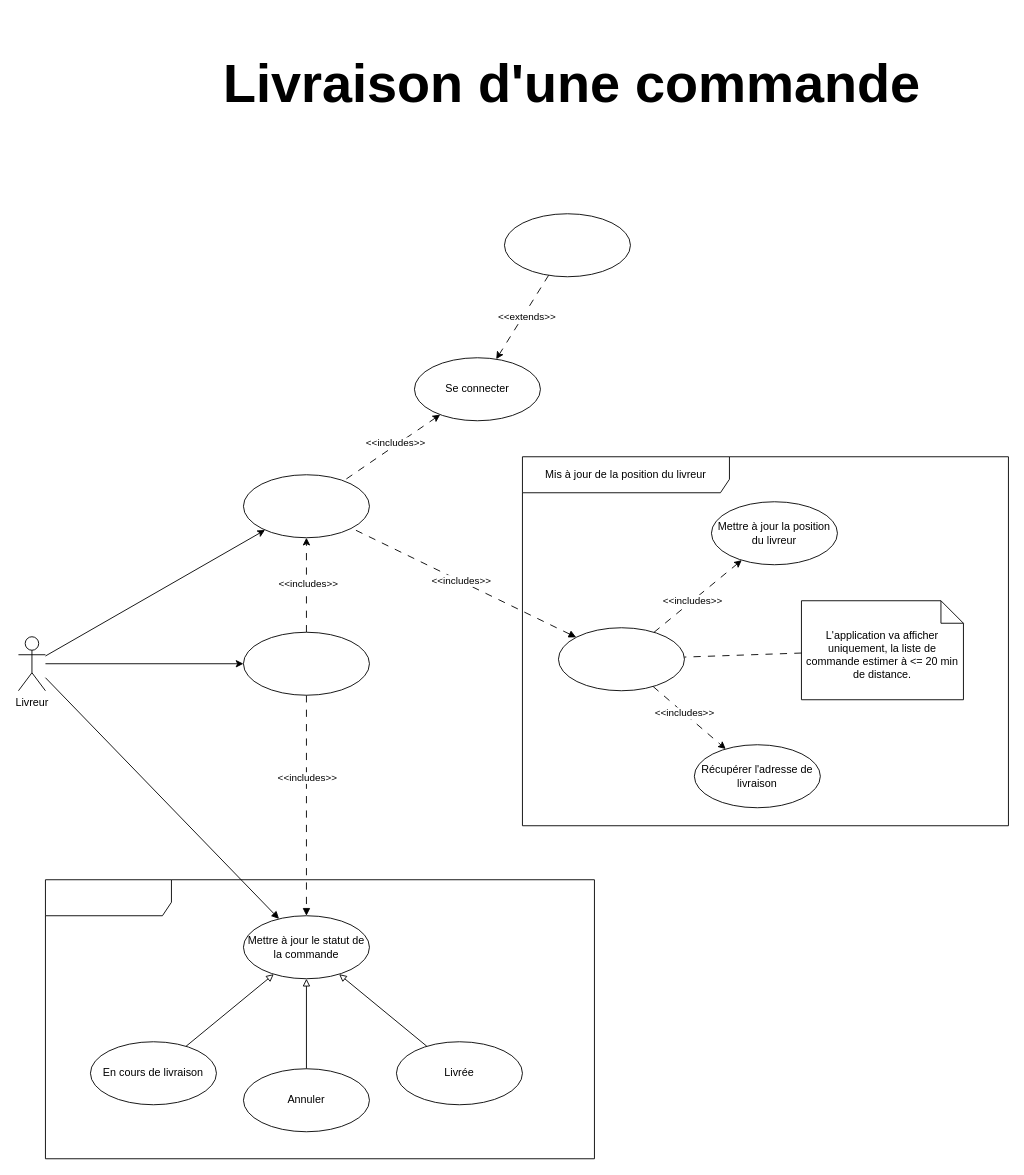
The diagram is 1024 pixels wide and 1175 high, and some of its shapes have lost their labels. Here are the shapes that lost their labels. From the top down, the centre of each, then its label:
At point 567,245: "S'inscrire".
At point 306,506: "Consulter les commandes à livrer".
At point 306,663: "Accepte une commande".
At point 621,659: "Estimer le temps de livraison".
At point 319,1019: "Statut de la commande".
